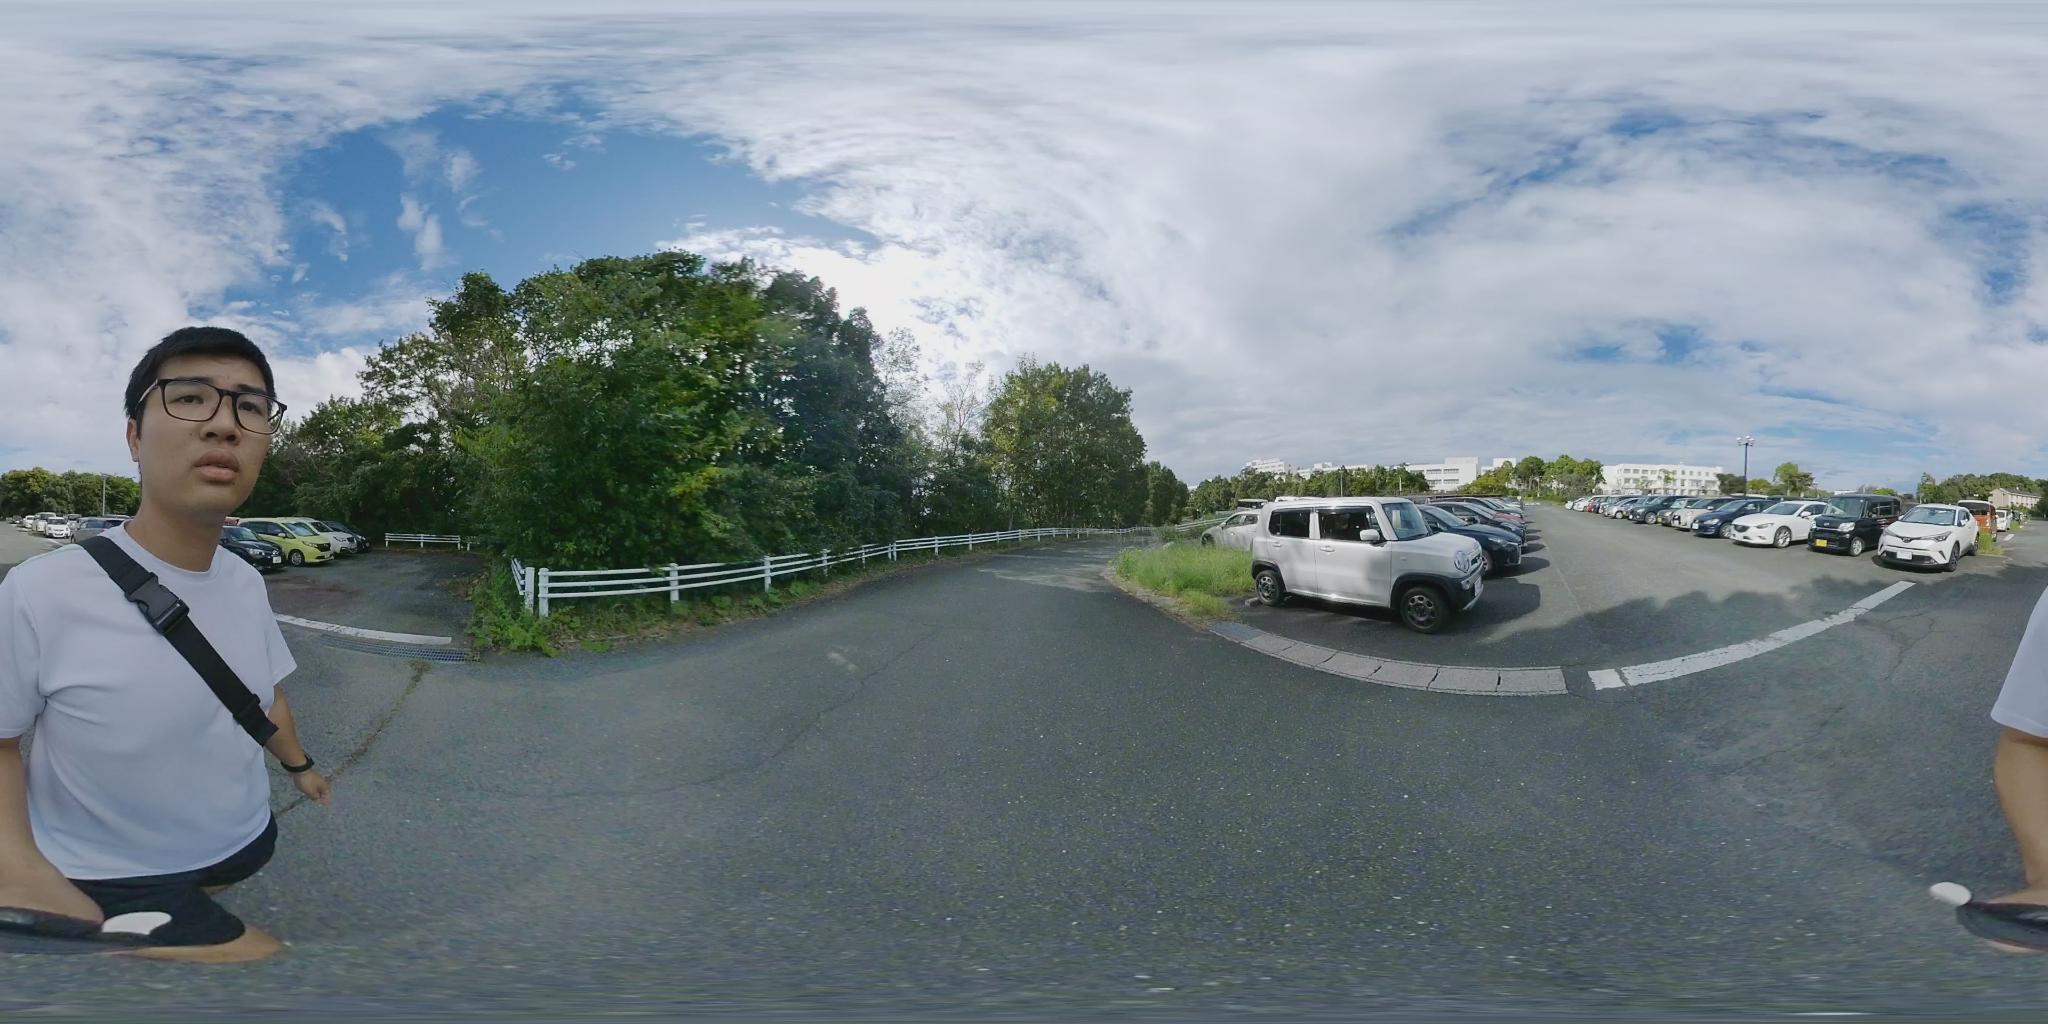car: (1255, 499, 1479, 628), (1838, 498, 1953, 563), (1800, 492, 1911, 552), (234, 520, 358, 567), (1724, 499, 1835, 546), (1684, 495, 1776, 534), (1613, 495, 1697, 526), (34, 519, 82, 539)
